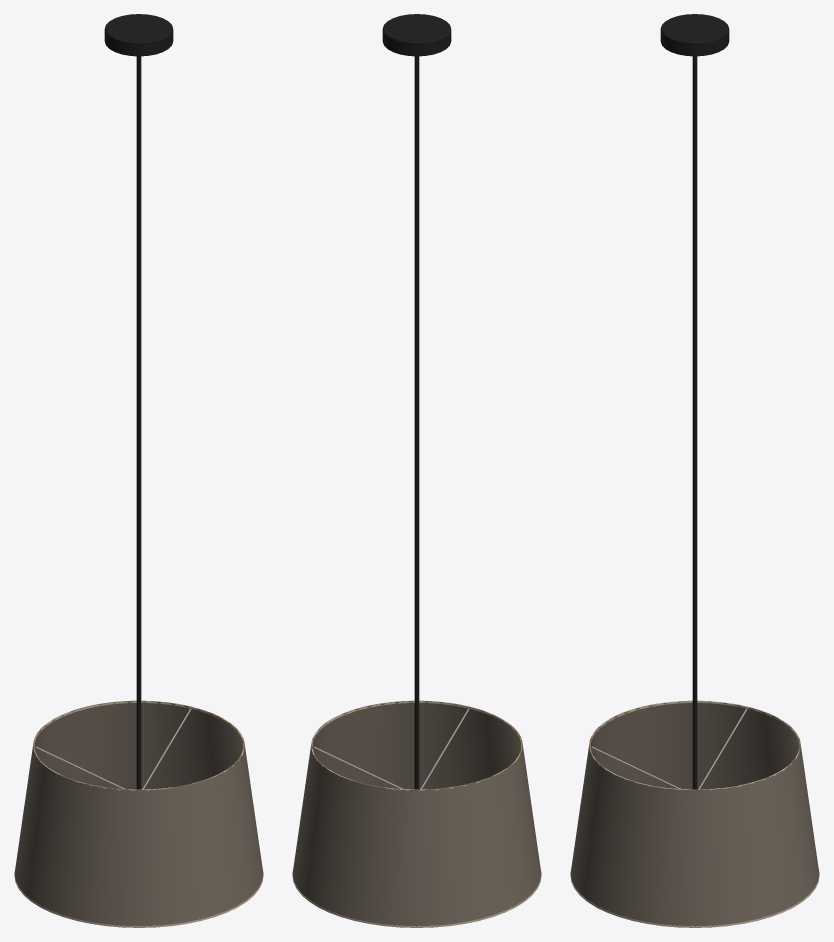
Rendered from bedroom-ceiling-shade-5b24c0af2674.glb.
The picture shows the model from 3 angles, left to right: view 1: azimuth 30°, elevation 25°; view 2: azimuth 150°, elevation 25°; view 3: azimuth 270°, elevation 25°; orthographic projection.
Visible parts, largest first — view 1: cover-cloth, rubber, enamel-black, cloth-cream; view 2: cover-cloth, rubber, enamel-black, cloth-cream; view 3: cover-cloth, rubber, enamel-black, cloth-cream.
Part boxes in pixels (x1=…): cover-cloth: x1=14, y1=701, x2=263, y2=927; rubber: x1=136, y1=56, x2=141, y2=789; enamel-black: x1=104, y1=14, x2=173, y2=56; cloth-cream: x1=14, y1=700, x2=263, y2=927; cover-cloth: x1=292, y1=701, x2=541, y2=927; rubber: x1=414, y1=56, x2=419, y2=789; enamel-black: x1=382, y1=14, x2=451, y2=56; cloth-cream: x1=292, y1=700, x2=541, y2=927; cover-cloth: x1=570, y1=701, x2=819, y2=927; rubber: x1=692, y1=56, x2=697, y2=789; enamel-black: x1=660, y1=14, x2=729, y2=56; cloth-cream: x1=570, y1=700, x2=819, y2=927.
Size of the model in its own units: 0.4001 by 1.5 by 0.4001.
